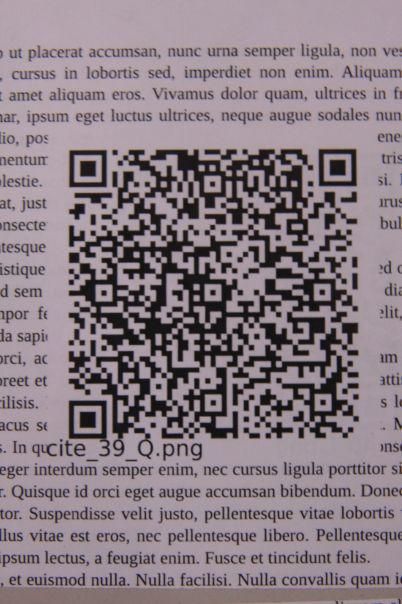Finder pattern: (64, 395, 110, 445), (66, 145, 114, 192), (314, 144, 363, 189)
